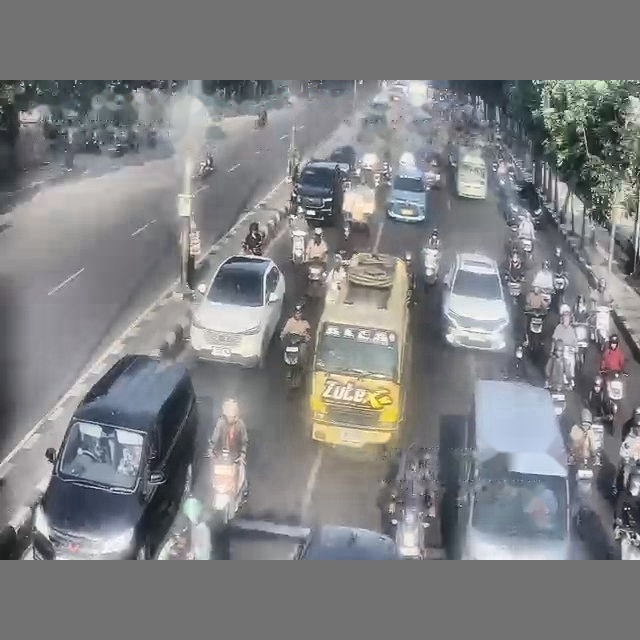Mobil: (32, 354, 198, 559), (190, 255, 285, 367), (442, 253, 510, 351), (294, 525, 400, 559), (292, 160, 343, 225), (386, 165, 427, 221), (514, 180, 543, 227), (329, 145, 357, 176), (424, 153, 442, 188)
Motor: (209, 450, 246, 525), (391, 505, 429, 558), (283, 334, 304, 389), (601, 371, 627, 415), (525, 309, 547, 357), (289, 214, 307, 264), (591, 305, 610, 349), (307, 258, 326, 299), (573, 322, 588, 371), (422, 247, 440, 287), (619, 527, 639, 559), (549, 384, 566, 415), (507, 276, 521, 304)
